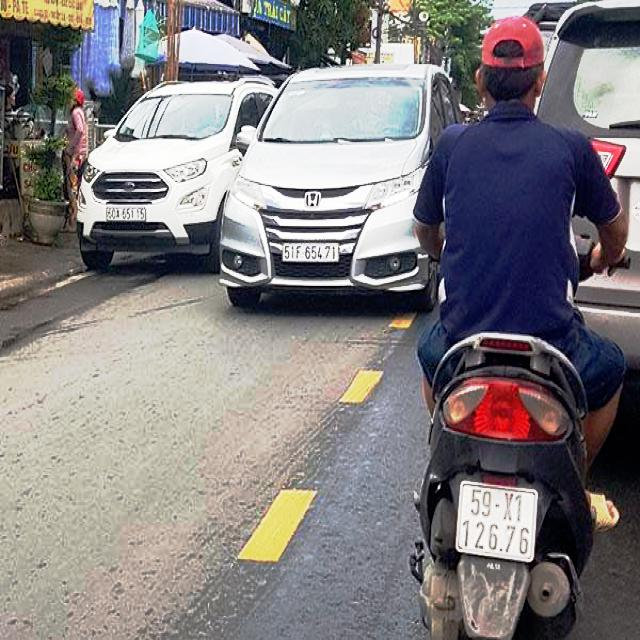license_plate: (459, 482, 537, 561), (282, 243, 339, 263), (107, 207, 148, 222)
